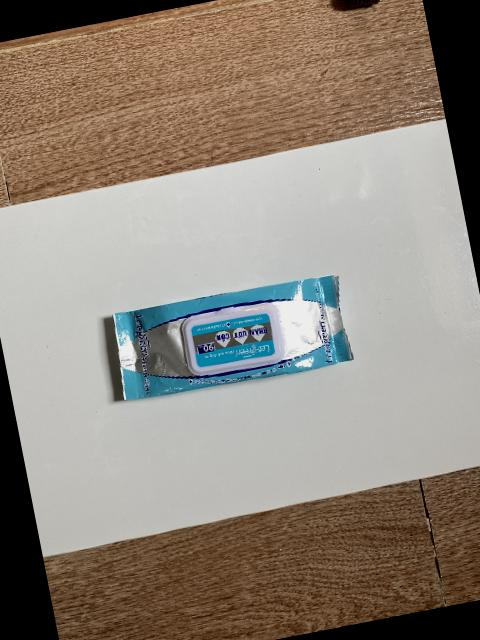Let-green_alcohol_wipes: (111, 273, 352, 398)
